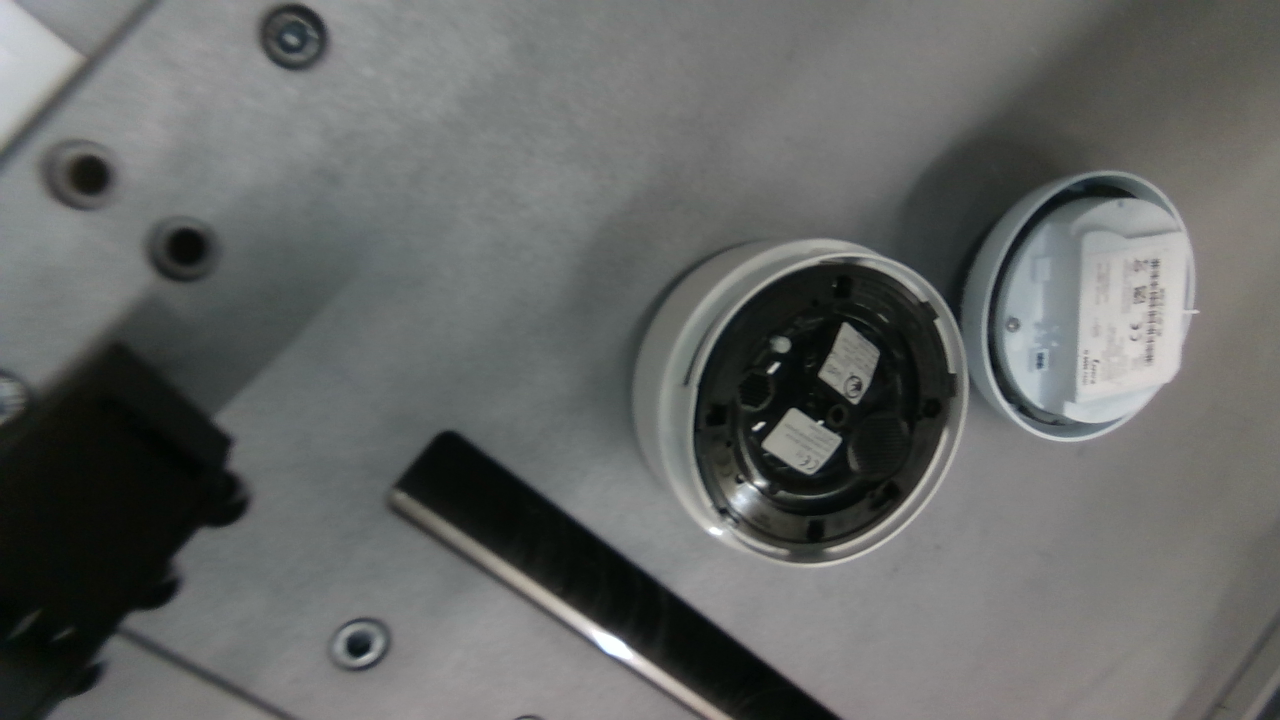HexScrew: (1003, 317, 1026, 334), (831, 277, 841, 294)
